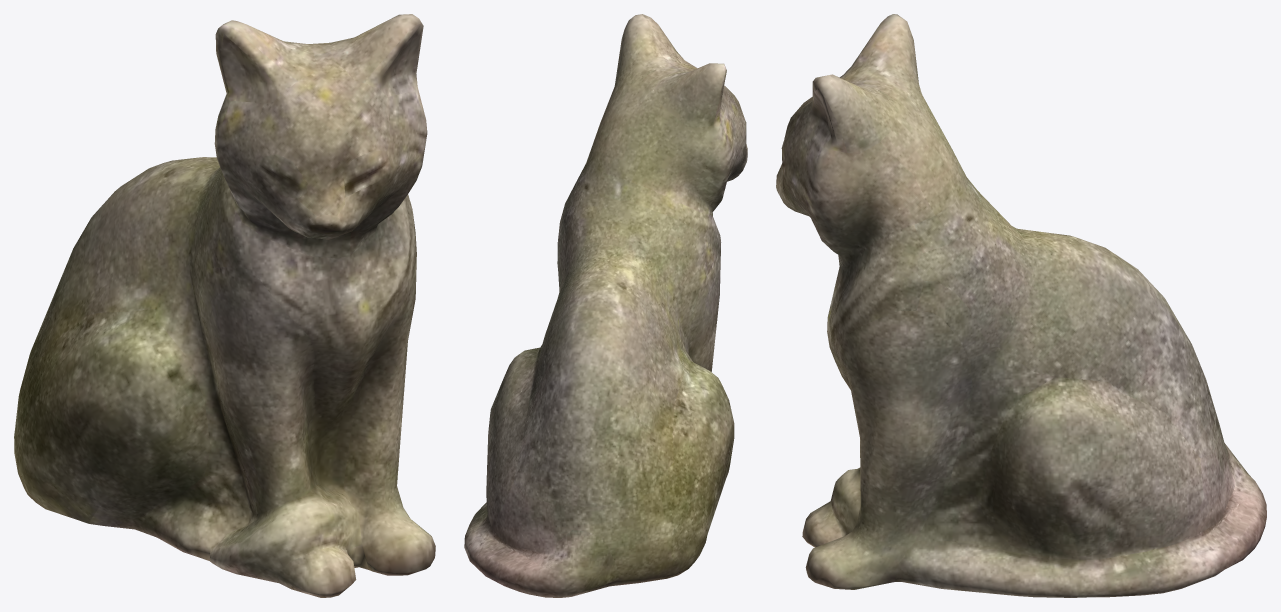
File: scene-cat-statue.glb
3 views of the same model, side by side, from view 1: azimuth 30°, elevation 25°; view 2: azimuth 150°, elevation 25°; view 3: azimuth 270°, elevation 25° (orthographic). The views are drawn at different scales.
Parts seen in each view (by area): view 1: concrete_cat_statue; view 2: concrete_cat_statue; view 3: concrete_cat_statue.
Part boxes in pixels (<box>): concrete_cat_statue: <box>14,14,435,597</box>; concrete_cat_statue: <box>464,14,747,597</box>; concrete_cat_statue: <box>776,14,1266,597</box>.
Bounding box in the file's own units: 0.1528 × 0.2828 × 0.2497.
Materials: 1 (1 with a texture image).
